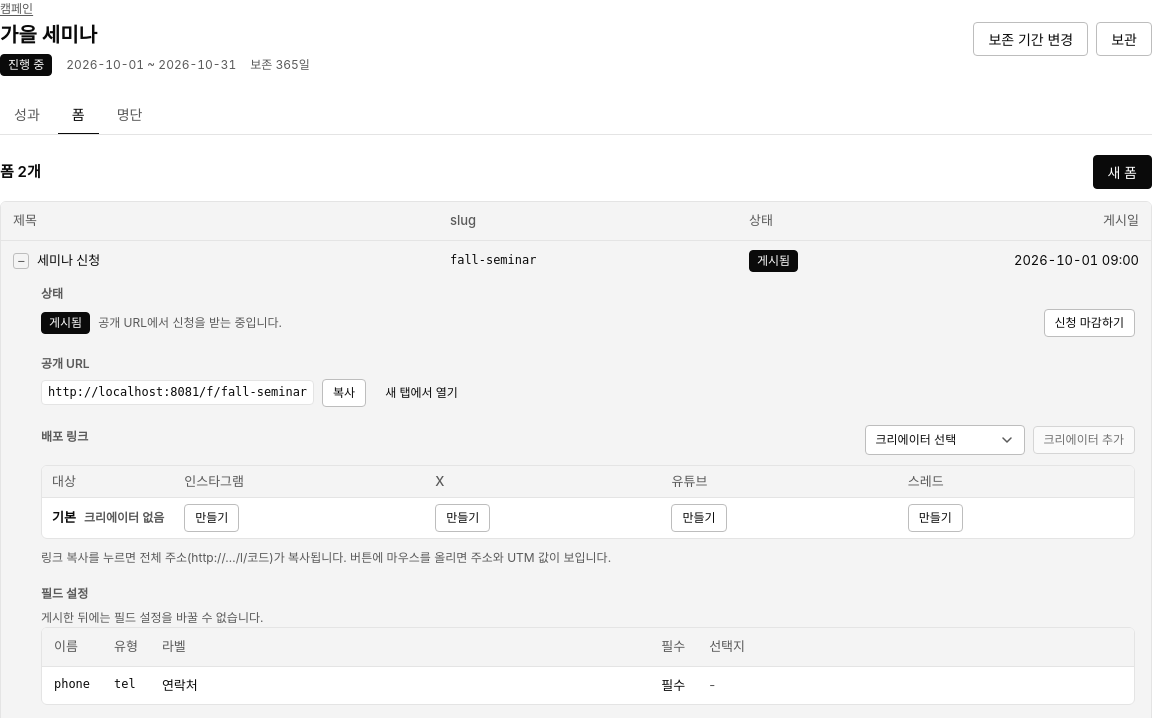
크리에이터 링크(같은 표의 행) › 크리에이터를 골라 행을 추가하고 칸의 만들기를 누르면 channel과 creatorId로 만든다
The width and height of the screenshot is (1152, 718).
Select "김하늘" in the dropdown named "크리에이터" at (944, 440), box [864,424,1024,454]
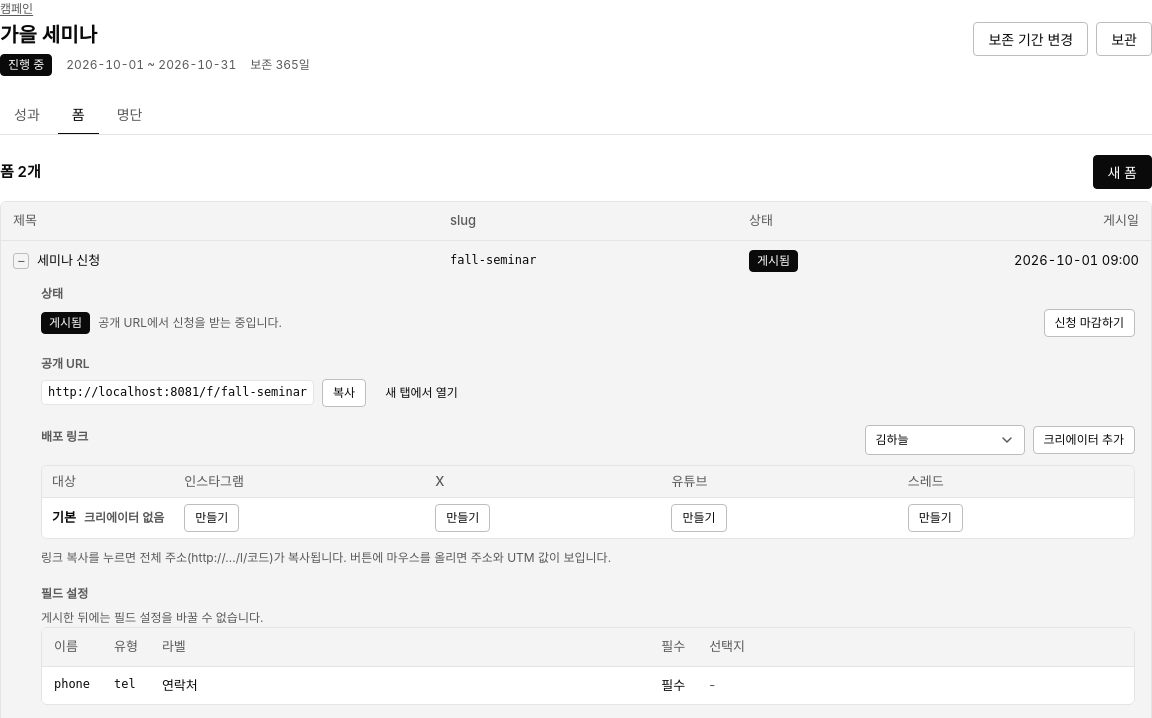
Click the button "크리에이터 추가".
click(1084, 440)  # box [1032,426,1135,454]
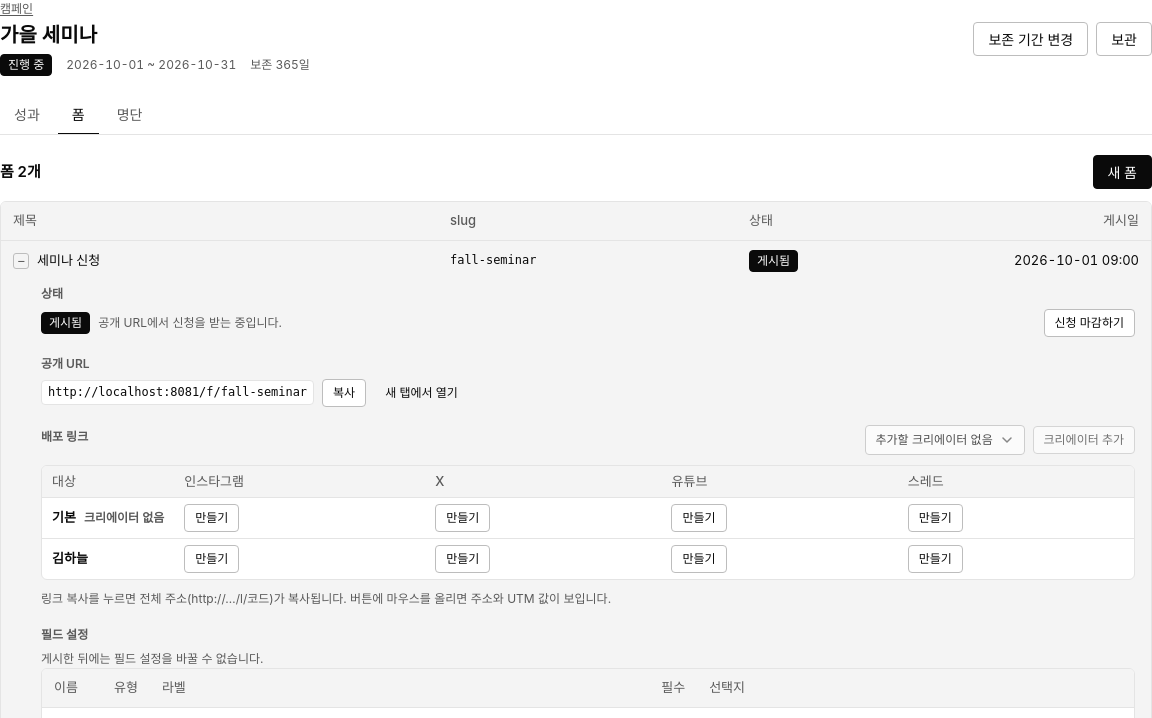
Click the button with aria-label "김하늘 유튜브 링크 만들기".
click(699, 559)  # box [672,545,727,573]
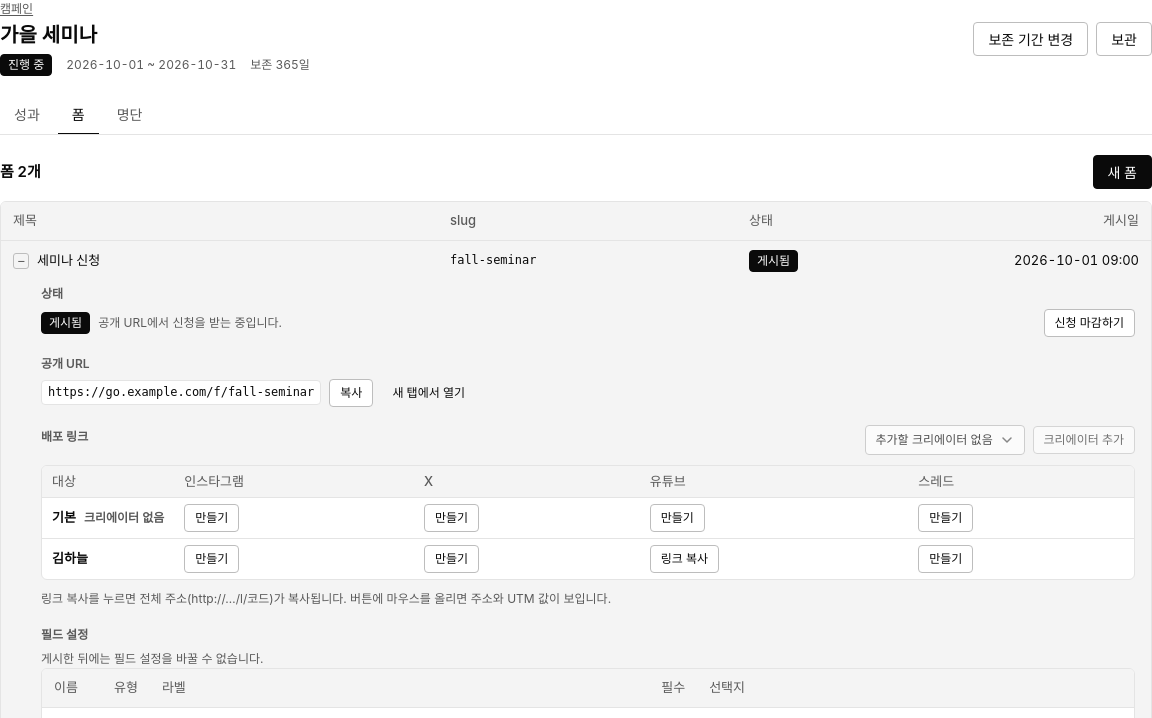
Expected: the button with aria-label "Zz99" is shown, [650,545,719,573]
